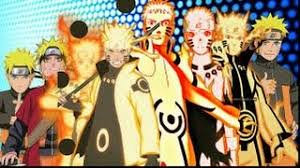Naruto: (184, 7, 217, 58), (253, 14, 287, 60), (143, 1, 176, 47), (103, 23, 136, 68), (3, 49, 34, 93), (36, 40, 69, 81), (220, 14, 249, 58), (72, 39, 101, 80)
